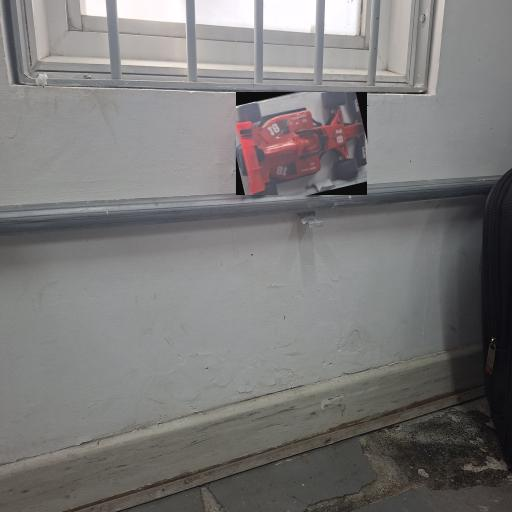carro: (235, 92, 366, 194)
